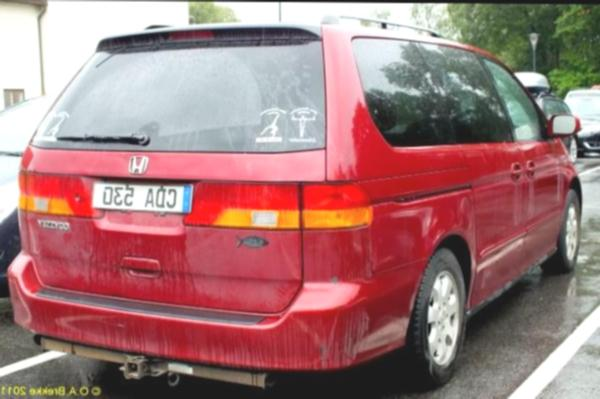License_Plate: (85, 179, 198, 214)
